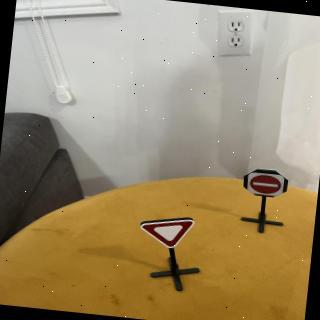sign_noentry: (246, 171, 287, 199)
sign_yield: (138, 214, 198, 252)
